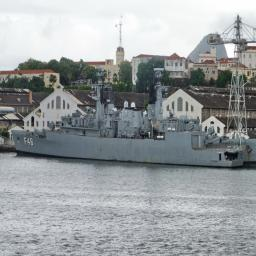Fragata: (13, 79, 249, 171)
